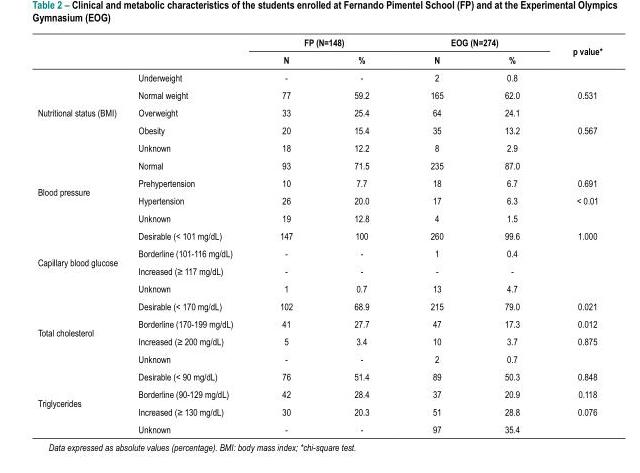table: (36, 36, 601, 434)
table column: (127, 36, 255, 434), (36, 36, 127, 434), (322, 36, 399, 434), (399, 36, 473, 434), (473, 36, 545, 434), (255, 36, 322, 434), (545, 36, 601, 434)
table column header: (36, 36, 601, 68)
table row: (36, 50, 601, 68), (36, 85, 601, 103), (36, 120, 601, 138), (36, 138, 601, 156), (36, 173, 601, 191), (36, 208, 601, 226), (36, 226, 601, 244), (36, 261, 601, 279), (36, 296, 601, 314), (36, 314, 601, 332), (36, 349, 601, 367), (36, 384, 601, 402), (36, 402, 601, 420), (36, 68, 601, 85), (36, 103, 601, 120), (36, 156, 601, 173), (36, 191, 601, 208), (36, 244, 601, 261), (36, 279, 601, 296), (36, 332, 601, 349), (36, 367, 601, 384), (36, 36, 601, 50), (36, 420, 601, 434)
table spanning cell: (36, 68, 127, 156), (36, 296, 127, 367), (36, 156, 127, 226), (36, 226, 127, 296), (36, 367, 127, 434), (399, 36, 545, 50), (255, 36, 399, 50), (545, 36, 601, 68)
